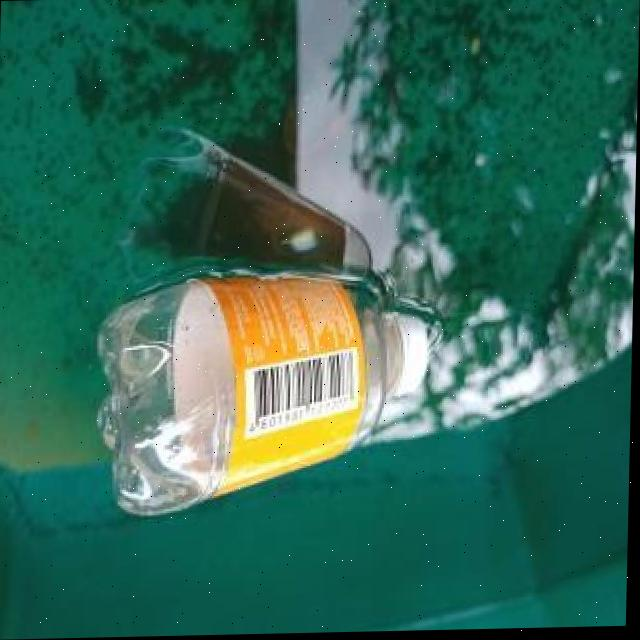bottle: (90, 261, 432, 525)
